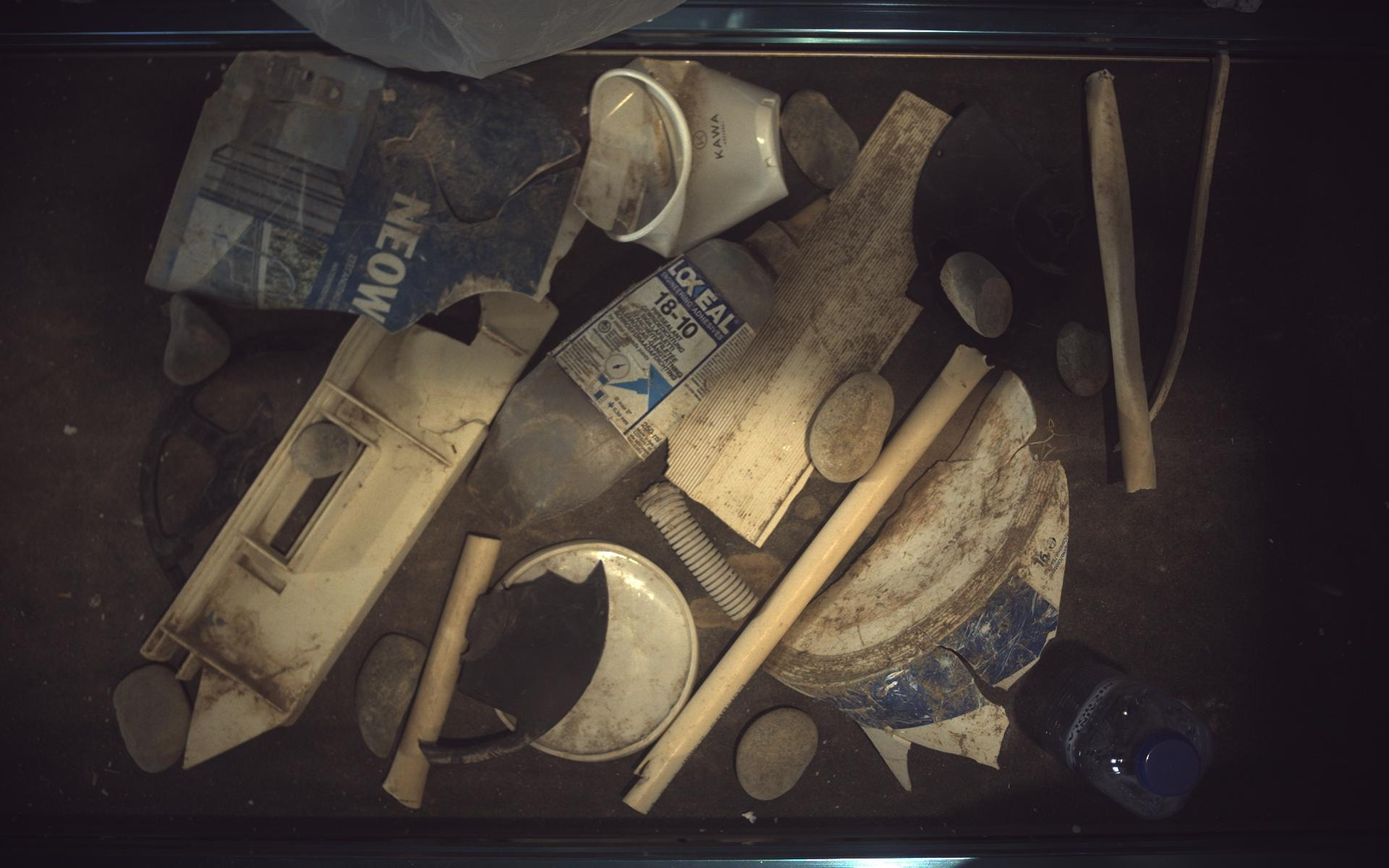general_w: (576, 58, 789, 256), (1015, 642, 1215, 821)
pipes: (624, 344, 990, 815), (383, 535, 501, 810), (1089, 69, 1159, 493), (638, 482, 759, 621)
plastic: (140, 292, 558, 769), (145, 52, 653, 331), (668, 90, 951, 545), (767, 371, 1071, 791), (469, 197, 830, 525), (140, 341, 331, 590), (915, 103, 1085, 377), (499, 540, 700, 763), (421, 563, 610, 765), (1152, 51, 1233, 421)
stone: (810, 373, 895, 483), (355, 635, 428, 760), (112, 665, 190, 774), (781, 89, 861, 190), (737, 709, 820, 801), (942, 251, 1015, 337), (163, 294, 230, 386), (289, 422, 358, 479), (1060, 321, 1111, 396)
